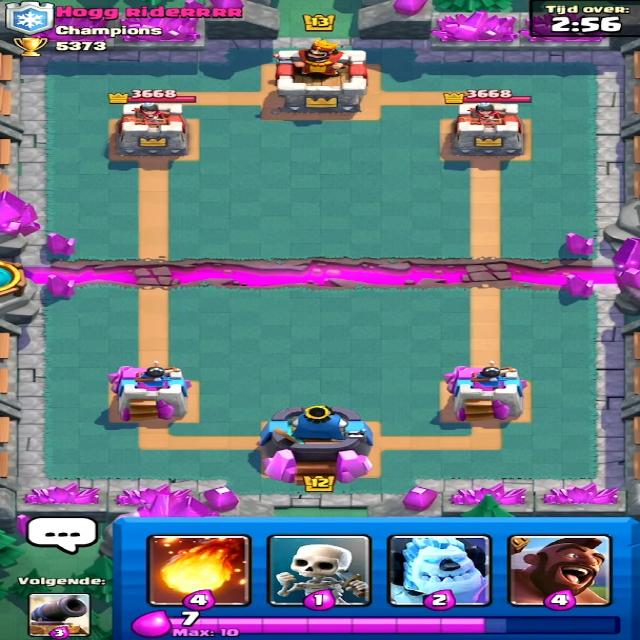Fireball_Card: (148, 534, 255, 607)
Hog_Rider_Card: (504, 535, 611, 607)
Ice_Golem_Card: (388, 535, 486, 605)
Skeleton_Card: (276, 533, 366, 606)
